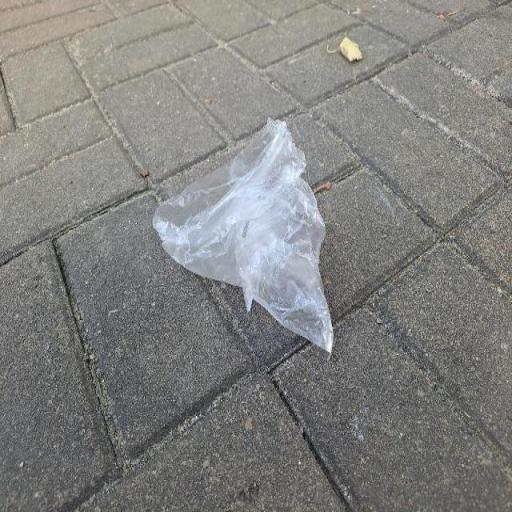plastic-bag: (150, 112, 330, 362)
